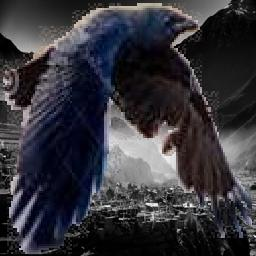Crow: (0, 3, 252, 255)
